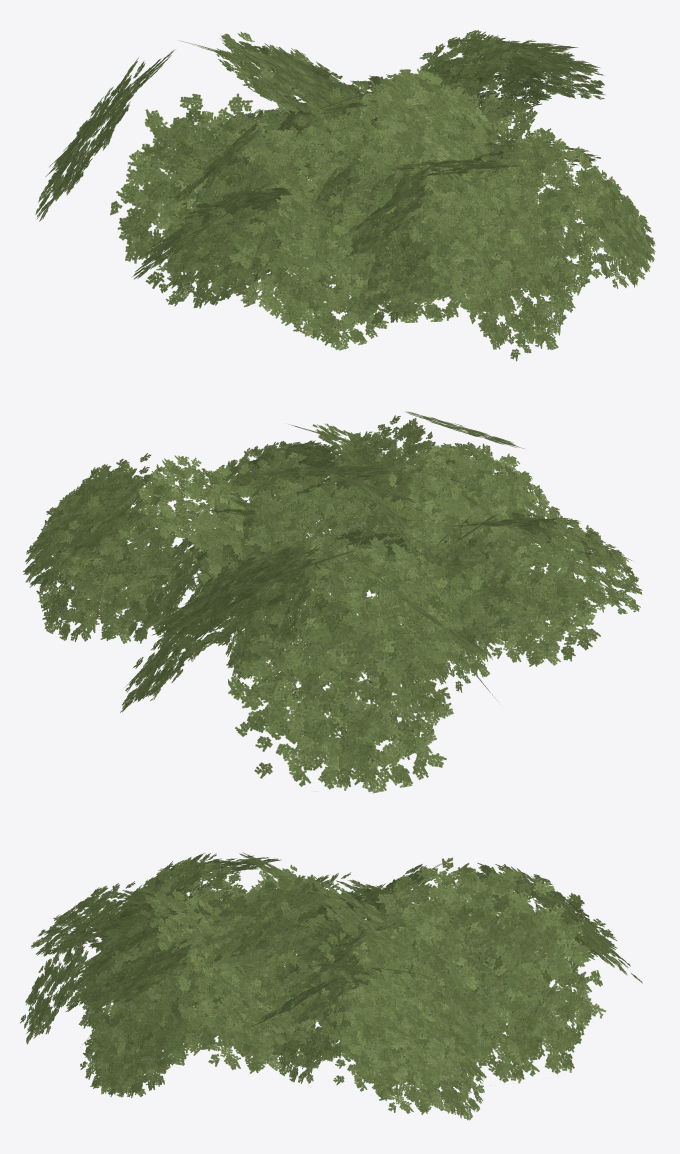
3 views of the same model, one above another, from view 1: azimuth 30°, elevation 25°; view 2: azimuth 150°, elevation 25°; view 3: azimuth 270°, elevation 25° (orthographic). The views are drawn at different scales.
Visible parts, largest first — view 1: mat_o_lod0_0; view 2: mat_o_lod0_0; view 3: mat_o_lod0_0.
Boxes of the visible parts, x1,y1,x2,y2 form: mat_o_lod0_0: [35, 30, 655, 361]; mat_o_lod0_0: [23, 411, 642, 793]; mat_o_lod0_0: [20, 852, 642, 1120].
Size of what is drawn, in the model's own units: 3.59 by 1.17 by 3.91.
1 material, 1 textured.
